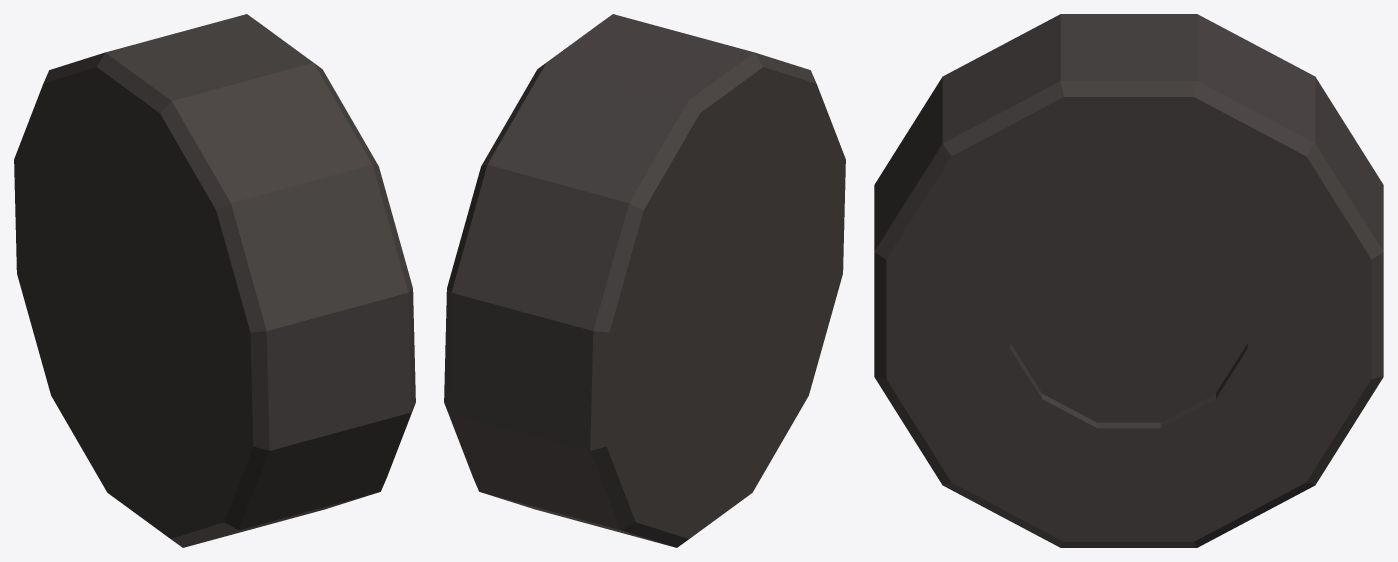
File: Shotgun1_05_2.fbx
The picture shows the model from 3 angles, left to right: view 1: azimuth 30°, elevation 25°; view 2: azimuth 150°, elevation 25°; view 3: azimuth 270°, elevation 25°; orthographic projection. The views are drawn at different scales.
Visible parts, largest first — view 1: Shotgun1_05_2; view 2: Shotgun1_05_2; view 3: Shotgun1_05_2.
Boxes of the visible parts, x1=… form: Shotgun1_05_2: x1=14, y1=14, x2=415, y2=547; Shotgun1_05_2: x1=444, y1=14, x2=845, y2=547; Shotgun1_05_2: x1=874, y1=14, x2=1383, y2=547.
Bounding box in the file's own units: 0.0771 × 0.1927 × 0.1912.
